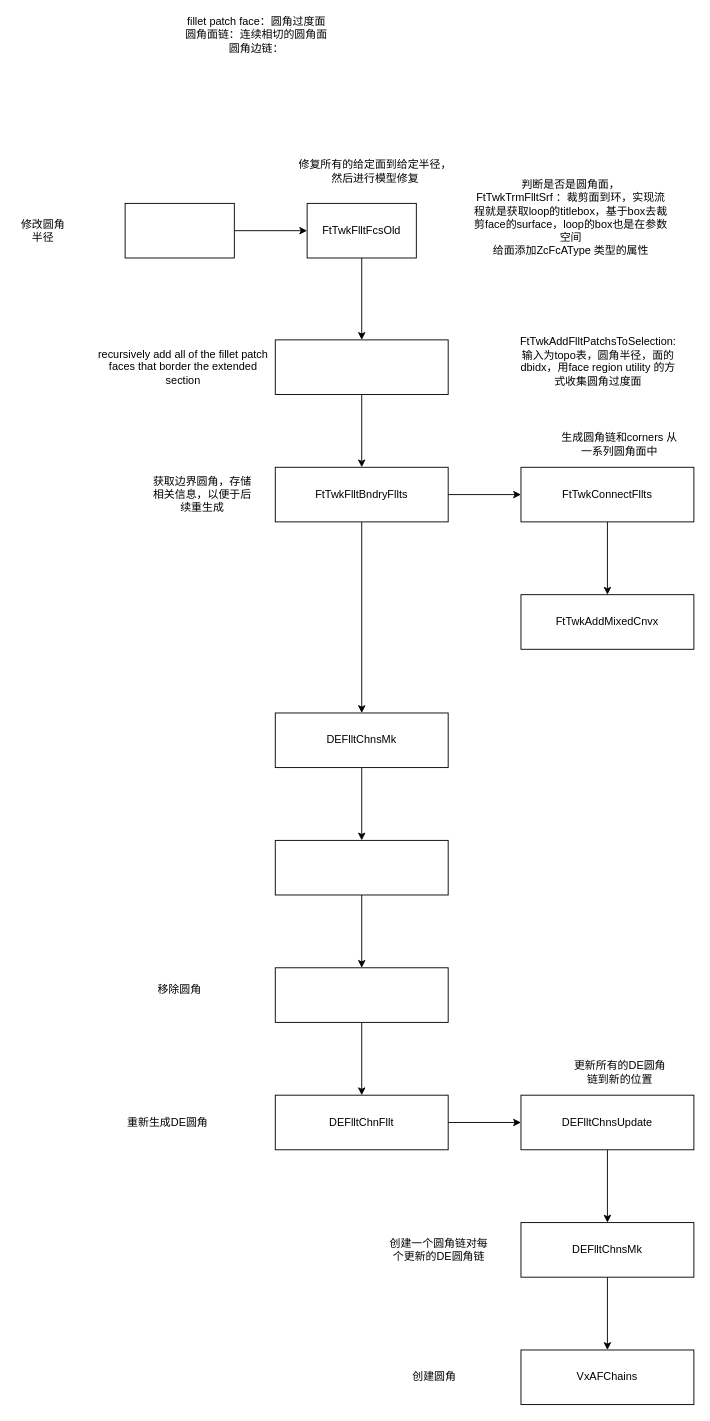
This 710x1421 diagram has some shape labels left out. Here are the shapes that lost their labels. From the top down, the centre of each, then its label:
the point at 179,230: FtTwkFllt
the point at 361,366: FtTwkAddFlltPatchsToSelection
the point at 361,867: DEFlltPatchesMk
the point at 361,994: FtTwkRmFillts
